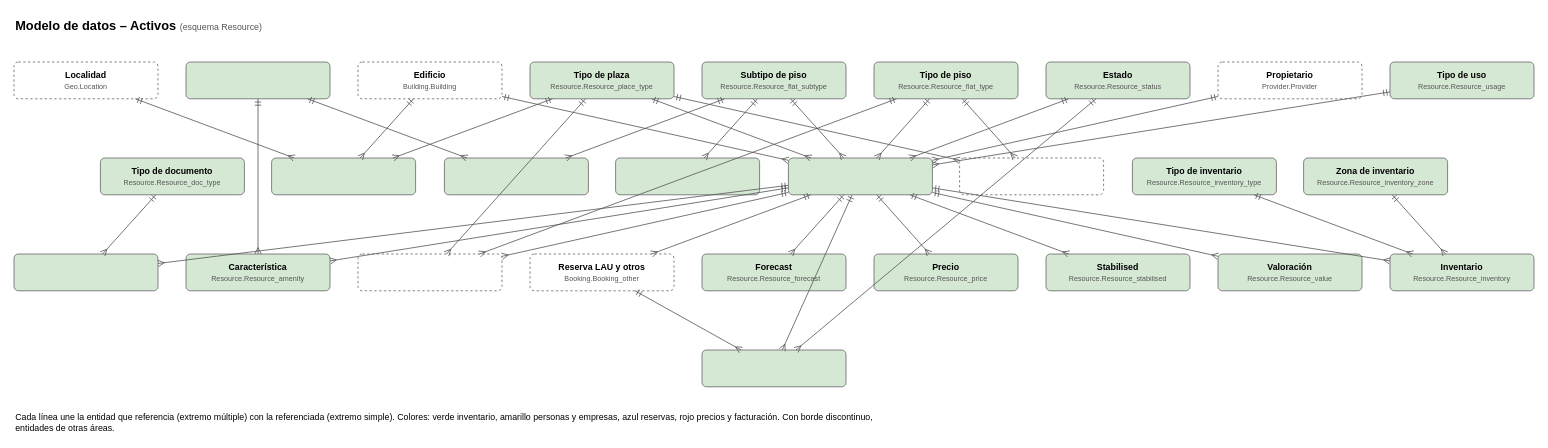
Image size: 1548x448. Some labels were removed from this diagram. The shapes that lost their labels are listed below. From the top down, each one's centre as x and y in pixels, then its label:
At point (257, 80): "Tipo de característica Resource.Resource_amenity_type".
At point (343, 176): "Texto Resource.Resource_place_text".
At point (516, 176): "Característica Resource.Resource_flat_amenity".
At point (687, 176): "Textos web Resource.Resource_subtype_text".
At point (860, 176): "Recurso Resource.Resource".
At point (1031, 176): "Promoción Billing.Promotion".
At point (85, 272): "Documento Resource.Resource_doc".
At point (429, 272): "Reserva B2C Booking.Booking".
At point (773, 368): "Estado Resource.Resource_availability".
